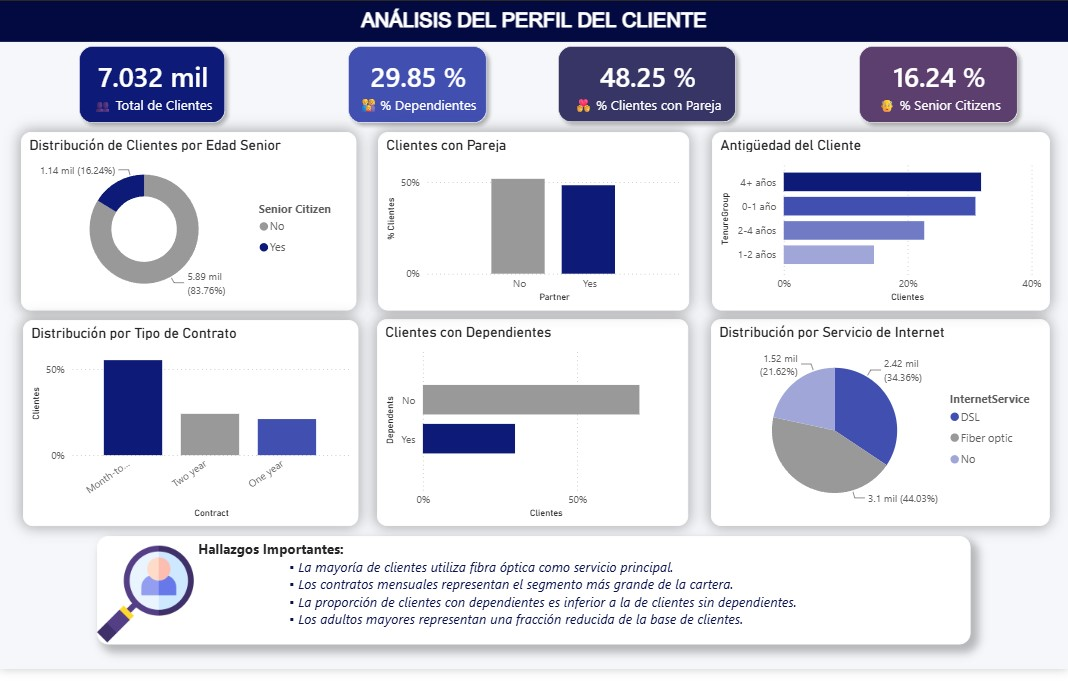

This screenshot's page, from the dashboard's own definition file:
{"tool":"powerbi","page":{"name":"Perfil del Cliente","canvas":[1280,720],"ordinal":1},"visuals":[{"type":"cardVisual","fields":{"Data":["WA_Fn-UseC_-Telco-Customer-Churn.% Clientes con Pareja"]},"box":[640,25.6,271.1,149.1],"z":0},{"type":"shape","box":[116,641.5,1046.6,78.3],"z":0,"group":"g1"},{"type":"cardVisual","fields":{"Data":["WA_Fn-UseC_-Telco-Customer-Churn.% Senior Citizens"]},"box":[1000.3,25.3,248.1,150.1],"z":1000},{"type":"cardVisual","fields":{"Data":["WA_Fn-UseC_-Telco-Customer-Churn.% Dependientes"]},"box":[388.2,25.3,224.4,150.1],"z":2000},{"type":"cardVisual","fields":{"Data":["CountNonNull(WA_Fn-UseC_-Telco-Customer-Churn.Gender)"]},"box":[66.4,25.3,233.9,150.1],"z":3000},{"type":"donutChart","title":"Distribución de Clientes por Edad Senior","fields":{"Category":["WA_Fn-UseC_-Telco-Customer-Churn.Senior Citizen Texto"],"Y":["CountNonNull(WA_Fn-UseC_-Telco-Customer-Churn.Churn)"]},"box":[25.6,156.6,402.1,213.8],"z":4000},{"type":"barChart","title":"Clientes con Dependientes","fields":{"Category":["WA_Fn-UseC_-Telco-Customer-Churn.Dependents"],"Y":["CountNonNull(WA_Fn-UseC_-Telco-Customer-Churn.Churn)"]},"box":[452,380.6,372.9,248.1],"z":5000},{"type":"columnChart","title":"Clientes con Pareja","fields":{"Category":["WA_Fn-UseC_-Telco-Customer-Churn.Partner"],"Y":["CountNonNull(WA_Fn-UseC_-Telco-Customer-Churn.Churn)"]},"box":[453.3,156.6,373.5,213.8],"z":6000},{"type":"pieChart","title":"Distribución por Servicio de Internet","fields":{"Series":["WA_Fn-UseC_-Telco-Customer-Churn.InternetService"],"Y":["CountNonNull(WA_Fn-UseC_-Telco-Customer-Churn.Churn)"]},"box":[851.8,380.6,406.1,248.1],"z":7000},{"type":"columnChart","title":"Distribución por Tipo de Contrato","fields":{"Category":["WA_Fn-UseC_-Telco-Customer-Churn.Contract"],"Y":["CountNonNull(WA_Fn-UseC_-Telco-Customer-Churn.Churn)"]},"box":[27.1,382.5,402.1,247],"z":8000},{"type":"clusteredBarChart","title":"Antigüedad del Cliente","fields":{"Category":["WA_Fn-UseC_-Telco-Customer-Churn.TenureGroup"],"Y":["CountNonNull(WA_Fn-UseC_-Telco-Customer-Churn.Churn)"]},"box":[853.8,156.6,405.1,213.8],"z":9000},{"type":"textbox","box":[0,0,1280,49],"z":10000},{"type":"group","id":"g1","title":"Grupo 1","box":[116,641.5,1046.6,78.3],"z":11000},{"type":"textbox","box":[232,641.5,930.6,78.3],"z":12000,"group":"g1"},{"type":"image","box":[116,647.5,116,72.3],"z":16001,"group":"g1"}]}

Visuals, with their boxes on the page's 1280x720 design canvas (x1, y1, x2, y2). These are canvas units, not pixel positions in the 1068x681 screenshot, which may show the page scaled, cropped or inside an application window:
cardVisual - WA_Fn-UseC_-Telco-Customer-Churn.% Clientes con Pareja: 640 26 911 175
shape: 116 642 1163 720
cardVisual - WA_Fn-UseC_-Telco-Customer-Churn.% Senior Citizens: 1000 25 1248 175
cardVisual - WA_Fn-UseC_-Telco-Customer-Churn.% Dependientes: 388 25 613 175
cardVisual - CountNonNull(WA_Fn-UseC_-Telco-Customer-Churn.Gender): 66 25 300 175
"Distribución de Clientes por Edad Senior" donutChart: 26 157 428 370
"Clientes con Dependientes" barChart: 452 381 825 629
"Clientes con Pareja" columnChart: 453 157 827 370
"Distribución por Servicio de Internet" pieChart: 852 381 1258 629
"Distribución por Tipo de Contrato" columnChart: 27 382 429 630
"Antigüedad del Cliente" clusteredBarChart: 854 157 1259 370
textbox: 0 0 1280 49
"Grupo 1" group: 116 642 1163 720
textbox: 232 642 1163 720
image: 116 648 232 720
